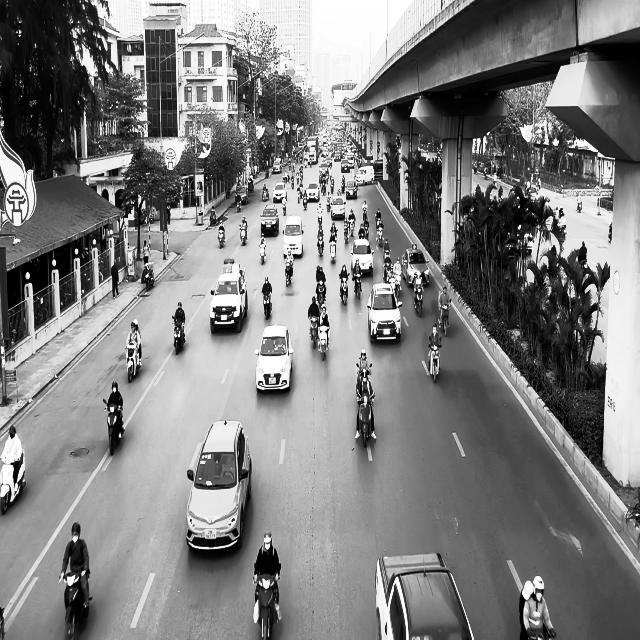car: (374, 552, 474, 640), (186, 419, 252, 552), (209, 262, 248, 334), (254, 324, 293, 392), (367, 282, 402, 343), (401, 248, 430, 287), (282, 215, 304, 258), (350, 238, 374, 277), (260, 206, 279, 236), (330, 196, 346, 220), (272, 182, 287, 203), (235, 186, 249, 205), (306, 182, 319, 202), (346, 178, 358, 198)
motorbike: (59, 569, 91, 639), (252, 572, 280, 639), (0, 450, 26, 514), (103, 398, 124, 456), (355, 390, 376, 448), (427, 335, 442, 383), (125, 340, 142, 382), (172, 316, 186, 354), (439, 300, 451, 336), (318, 325, 330, 360), (413, 284, 424, 317), (308, 316, 319, 348), (142, 262, 154, 290), (262, 290, 272, 319), (339, 273, 348, 305), (284, 258, 294, 286), (352, 272, 362, 299), (316, 280, 326, 307), (329, 234, 337, 263), (317, 229, 324, 256), (239, 225, 247, 246), (259, 242, 266, 264), (218, 228, 225, 248), (317, 208, 323, 231)
